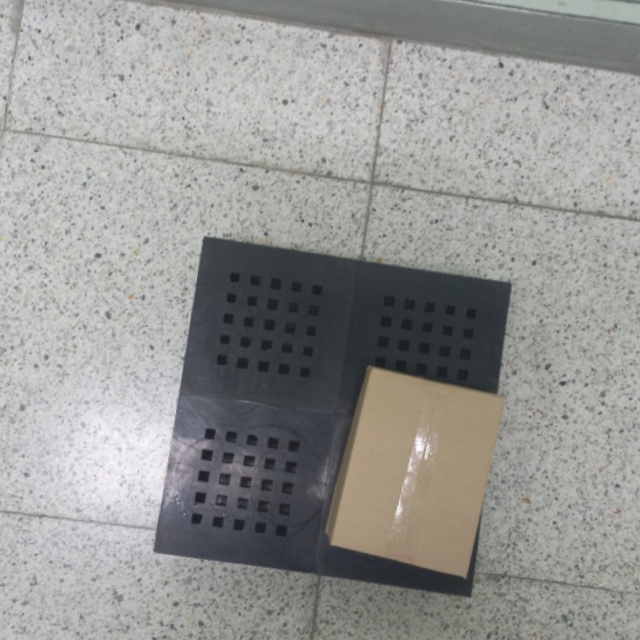box: (326, 361, 509, 583)
pallet: (135, 218, 534, 603)
